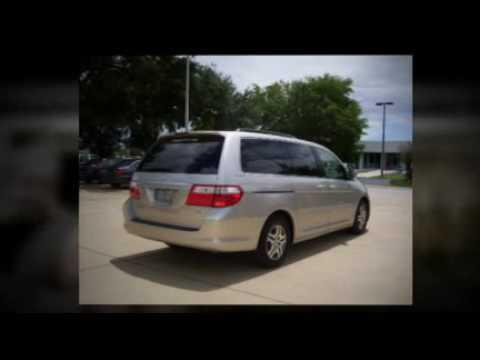Car: (117, 120, 378, 268)
